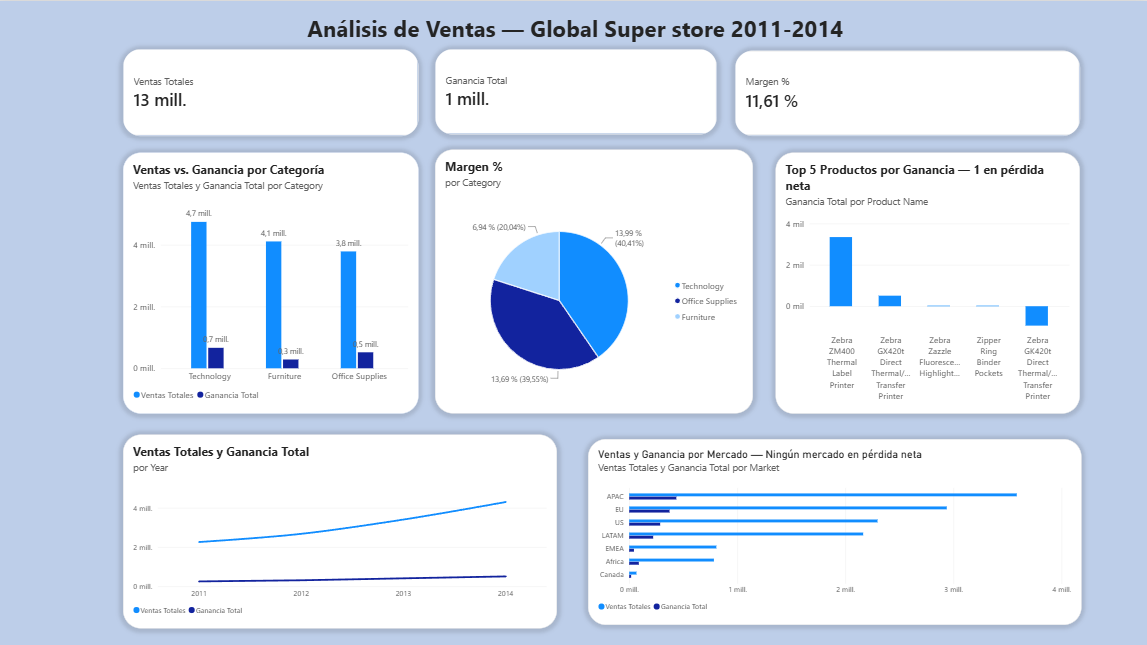

This screenshot's page, from the dashboard's own definition file:
{"tool":"powerbi","page":{"name":"Página 1","canvas":[1920,1080],"ordinal":0},"visuals":[{"type":"clusteredColumnChart","title":"Ventas vs. Ganancia por Categoría","fields":{"Category":["Global_Superstore_clean.Category"],"Y":["Global_Superstore_clean.Ventas Totales","Global_Superstore_clean.Ganancia Total"]},"box":[210,252.5,492.5,435],"z":0},{"type":"pieChart","fields":{"Category":["Global_Superstore_clean.Category"],"Y":["Global_Superstore_clean.Margen %"]},"box":[730,247.5,530,440],"z":1000},{"type":"lineChart","fields":{"Category":["Global_Superstore_clean.Year"],"Y":["Global_Superstore_clean.Ventas Totales","Global_Superstore_clean.Ganancia Total"]},"box":[210,723.3,723.3,323.3],"z":2000},{"type":"clusteredColumnChart","title":"Top 5 Productos por Ganancia — 1 en pérdida neta","fields":{"Category":["Global_Superstore_clean.Product Name"],"Y":["Global_Superstore_clean.Ganancia Total"]},"box":[1297.5,252.5,507.5,435],"z":3000},{"type":"textbox","box":[62.5,20,1802.5,60],"z":4000},{"type":"cardVisual","fields":{"Data":["Global_Superstore_clean.Margen %"]},"box":[1230,82.5,575,142.5],"z":5000},{"type":"cardVisual","fields":{"Data":["Global_Superstore_clean.Ganancia Total"]},"box":[730,80,470,142.5],"z":6000},{"type":"cardVisual","fields":{"Data":["Global_Superstore_clean.Ventas Totales"]},"box":[210,80,492.5,145],"z":7000},{"type":"clusteredBarChart","title":"Ventas y Ganancia por Mercado — Ningún mercado en pérdida neta","fields":{"Category":["Global_Superstore_clean.Market"],"Y":["Global_Superstore_clean.Ventas Totales","Global_Superstore_clean.Ganancia Total"]},"box":[983.8,730,822.5,310],"z":8000}]}

Visuals, with their boxes in screenshot pixels (x1, y1, x2, y2), scaled from the page's 1920x1080 canvas onto the 1147x645 screenshot:
"Ventas vs. Ganancia por Categoría" clusteredColumnChart: (left=125, top=151, right=420, bottom=411)
pieChart - Global_Superstore_clean.Category x Global_Superstore_clean.Margen %: (left=436, top=148, right=753, bottom=411)
lineChart - Global_Superstore_clean.Year x Global_Superstore_clean.Ventas Totales: (left=125, top=432, right=558, bottom=625)
"Top 5 Productos por Ganancia — 1 en pérdida neta" clusteredColumnChart: (left=775, top=151, right=1078, bottom=411)
textbox: (left=37, top=12, right=1114, bottom=48)
cardVisual - Global_Superstore_clean.Margen %: (left=735, top=49, right=1078, bottom=134)
cardVisual - Global_Superstore_clean.Ganancia Total: (left=436, top=48, right=717, bottom=133)
cardVisual - Global_Superstore_clean.Ventas Totales: (left=125, top=48, right=420, bottom=134)
"Ventas y Ganancia por Mercado — Ningún mercado en pérdida neta" clusteredBarChart: (left=588, top=436, right=1079, bottom=621)
